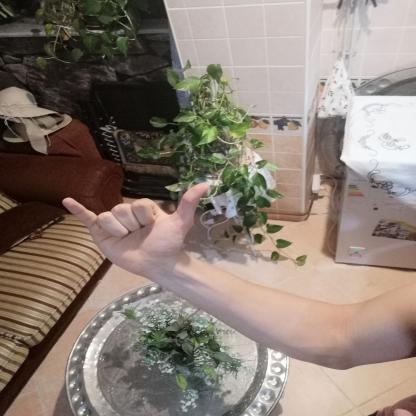YA: (48, 176, 227, 286)
